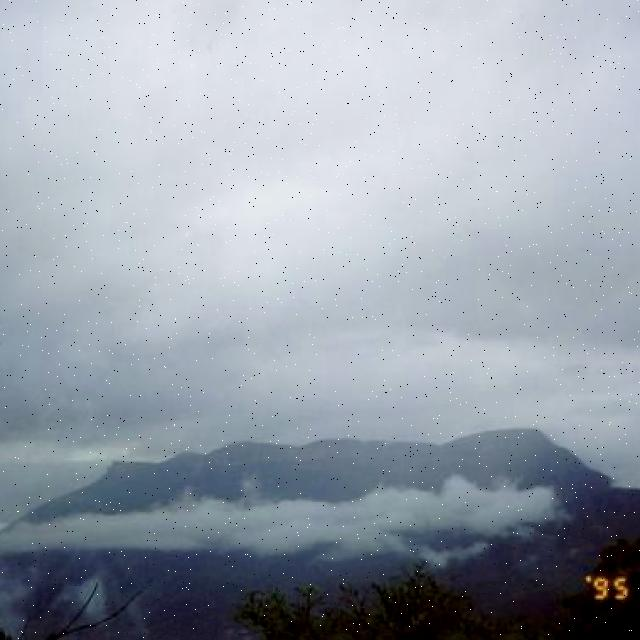Sc: (1, 15, 640, 421)
